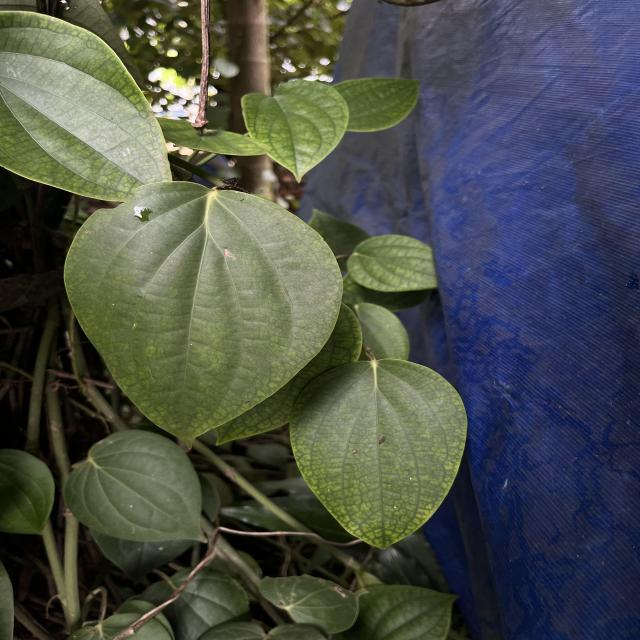Piper nigrum: (62, 180, 344, 452), (286, 356, 469, 551)
